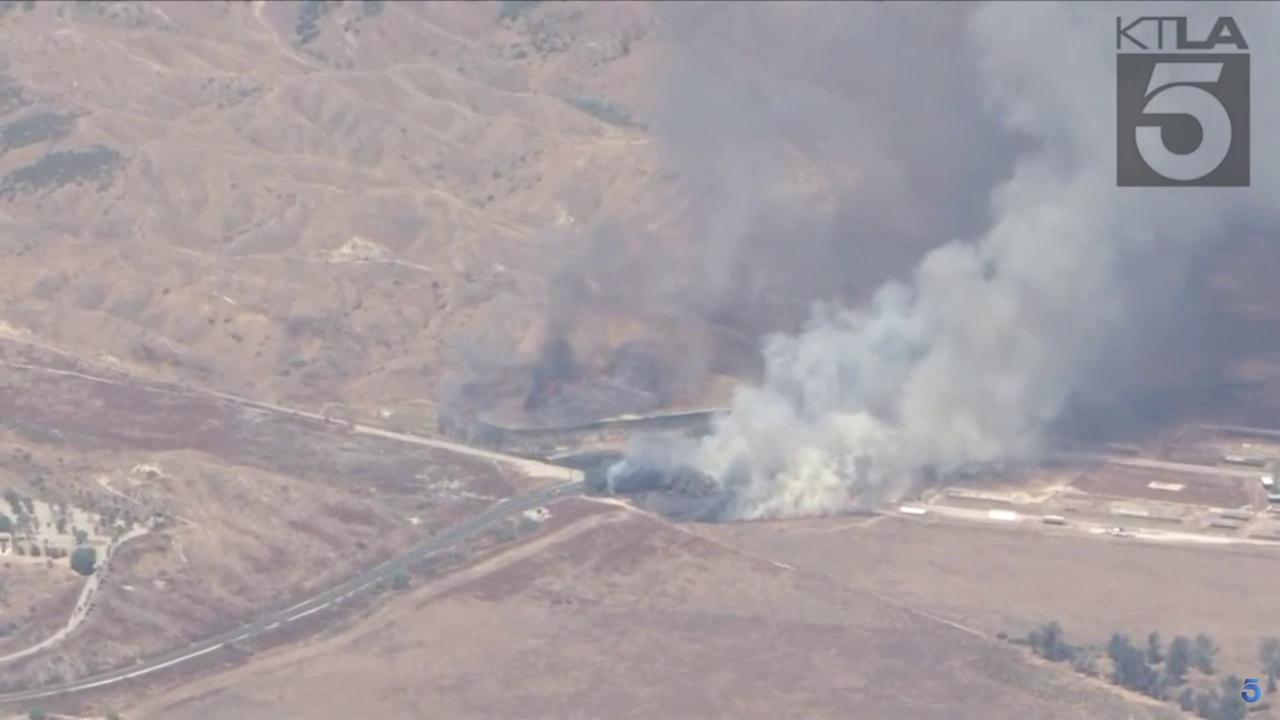smoke: (437, 0, 1280, 517)
